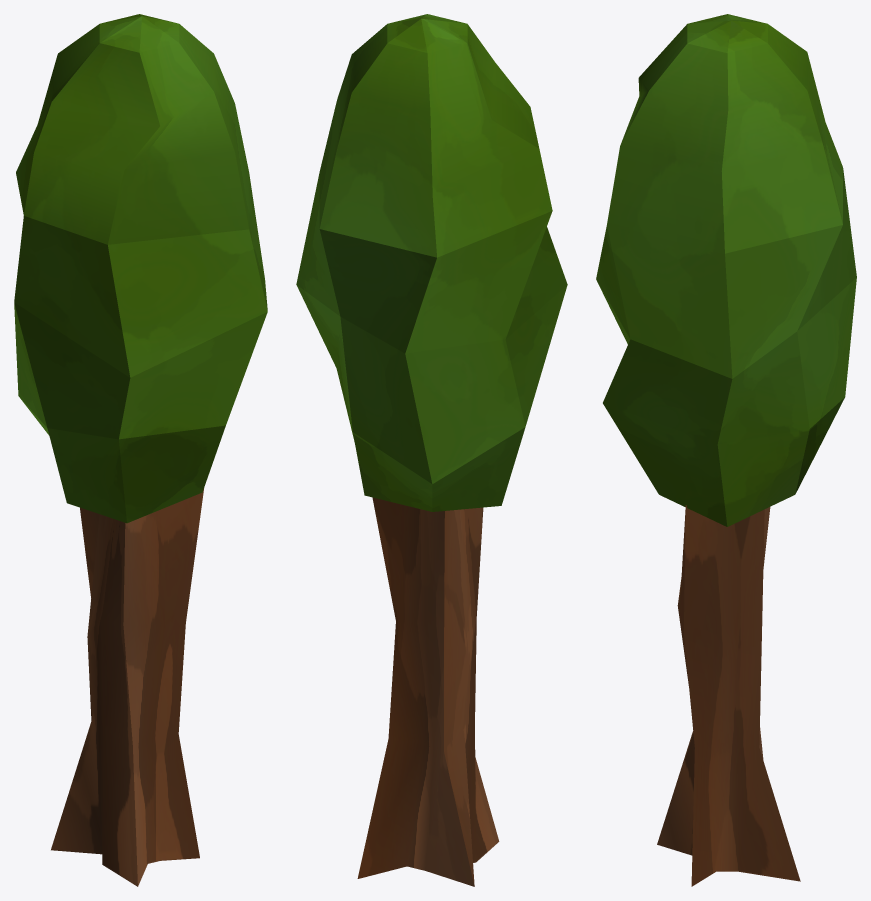
File: Tree 2.fbx
The picture shows the model from 3 angles, left to right: view 1: azimuth 30°, elevation 25°; view 2: azimuth 150°, elevation 25°; view 3: azimuth 270°, elevation 25°; orthographic projection.
Parts seen in each view (by area): view 1: pSphere1, pCube1; view 2: pSphere1, pCube1; view 3: pSphere1, pCube1.
Boxes of the visible parts, bbox=[...] form: pSphere1: bbox=[14, 14, 267, 523]; pCube1: bbox=[51, 489, 203, 886]; pSphere1: bbox=[296, 14, 567, 511]; pCube1: bbox=[357, 497, 499, 886]; pSphere1: bbox=[596, 14, 856, 526]; pCube1: bbox=[657, 505, 800, 886].
Bounding box in the file's own units: 3.45 × 11.14 × 3.11.
